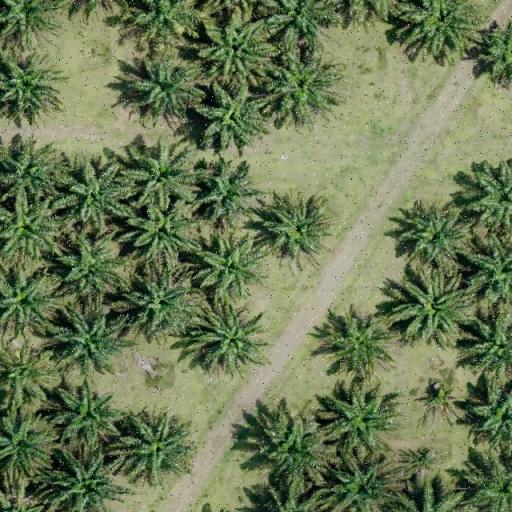Ganoderma: (414, 382, 460, 421)
